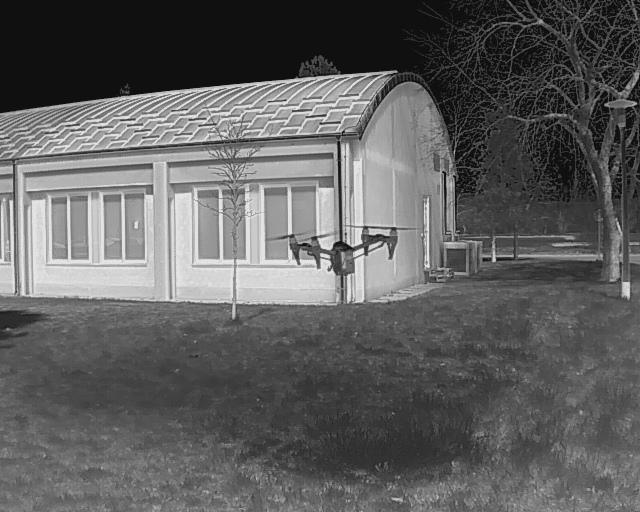drone: (272, 213, 404, 281)
